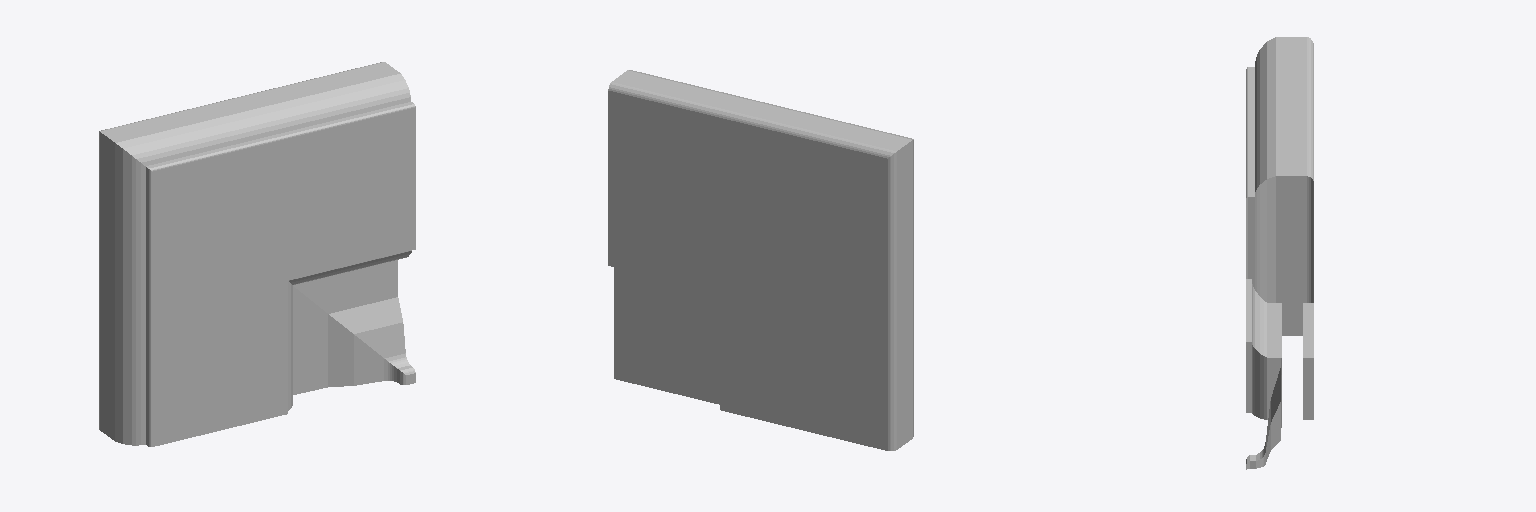
The model's file is original-107.obj.
The picture shows the model from 3 angles: view 1: azimuth 30°, elevation 25°; view 2: azimuth 150°, elevation 25°; view 3: azimuth 270°, elevation 25°; orthographic projection.
Parts seen in each view (by area): view 1: RT_11_TL1/RT_11_TL/mesh49/mesh49-geometry#mesh49-geometry; view 2: RT_11_TL1/RT_11_TL/mesh49/mesh49-geometry#mesh49-geometry; view 3: RT_11_TL1/RT_11_TL/mesh49/mesh49-geometry#mesh49-geometry.
Boxes of the visible parts, x1,y1,x2,y2 form: RT_11_TL1/RT_11_TL/mesh49/mesh49-geometry#mesh49-geometry: [99, 62, 415, 446]; RT_11_TL1/RT_11_TL/mesh49/mesh49-geometry#mesh49-geometry: [608, 70, 913, 450]; RT_11_TL1/RT_11_TL/mesh49/mesh49-geometry#mesh49-geometry: [1246, 37, 1313, 469].
Size of the model in its own units: 0.1303 by 0.1303 by 0.027.